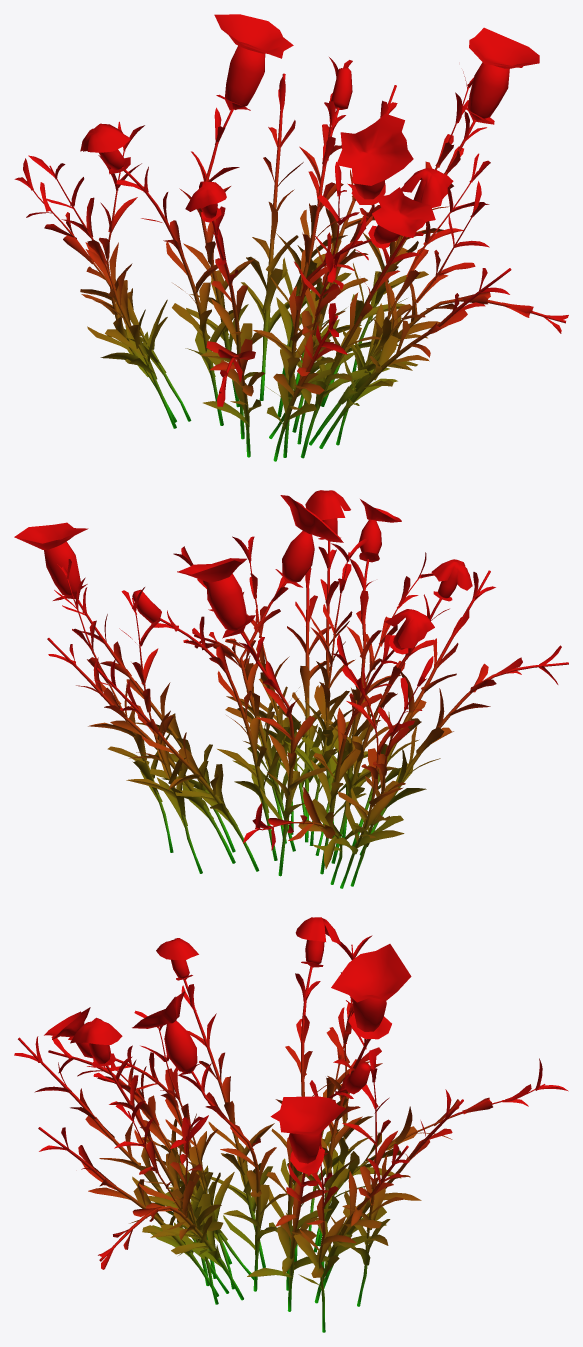
File: Var7_LOD0.fbx
3 views of the same model, one above another, from view 1: azimuth 30°, elevation 25°; view 2: azimuth 150°, elevation 25°; view 3: azimuth 270°, elevation 25° (orthographic). The views are drawn at different scales.
Parts seen in each view (by area): view 1: _z400_Var7_LOD0; view 2: _z400_Var7_LOD0; view 3: _z400_Var7_LOD0.
Boxes of the visible parts, <box> form: _z400_Var7_LOD0: <box>14,14,568,461</box>; _z400_Var7_LOD0: <box>14,490,568,888</box>; _z400_Var7_LOD0: <box>14,917,568,1332</box>.
Bounding box in the file's own units: 37.36 × 28.03 × 40.7.
